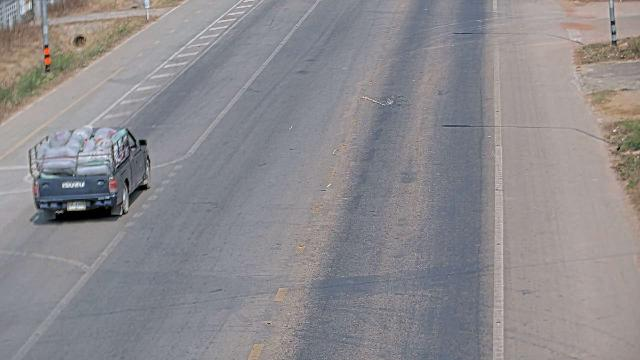pickup-truck: (27, 124, 152, 220)
